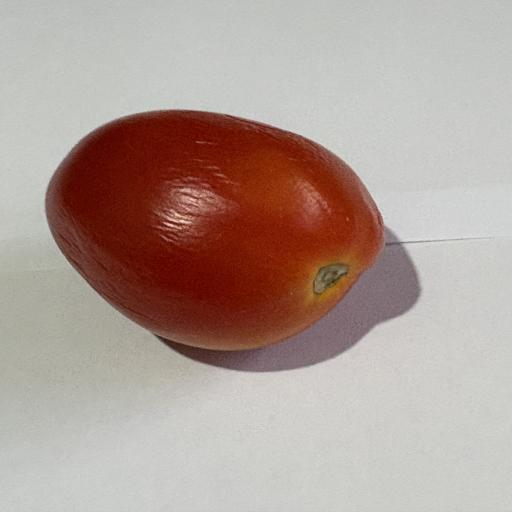spoiled: (46, 110, 384, 350)
